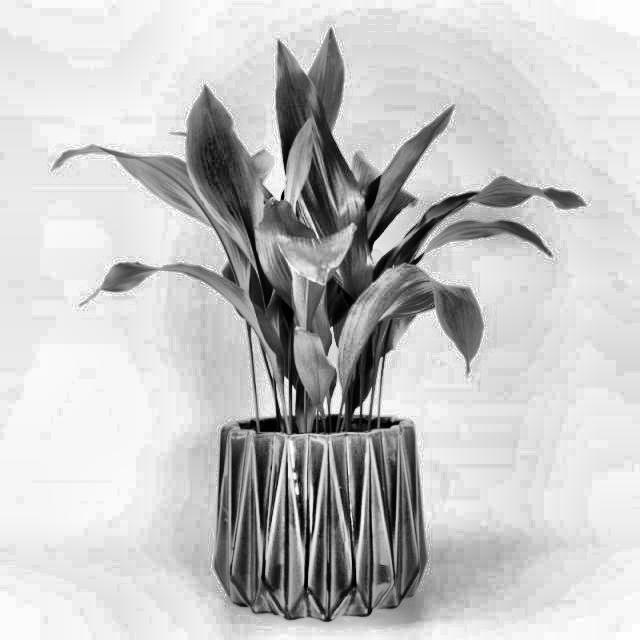plants: (59, 41, 577, 614)
